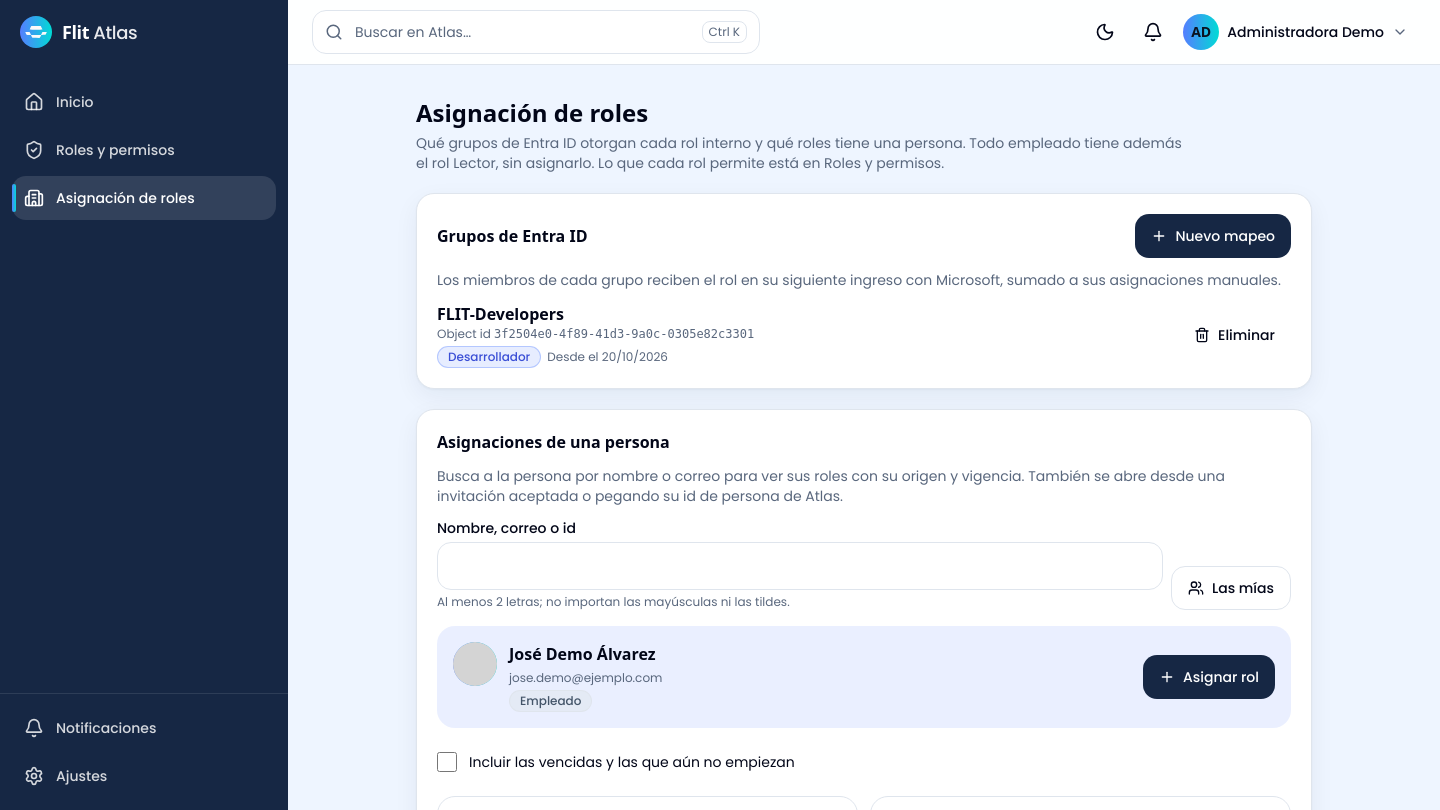
it: buscador de personas › si el servidor pide reautenticación al asignar, lo dice dentro de la hoja
Click the button "Asignar rol" at coordinates (1209, 677), box [1143, 655, 1275, 699]
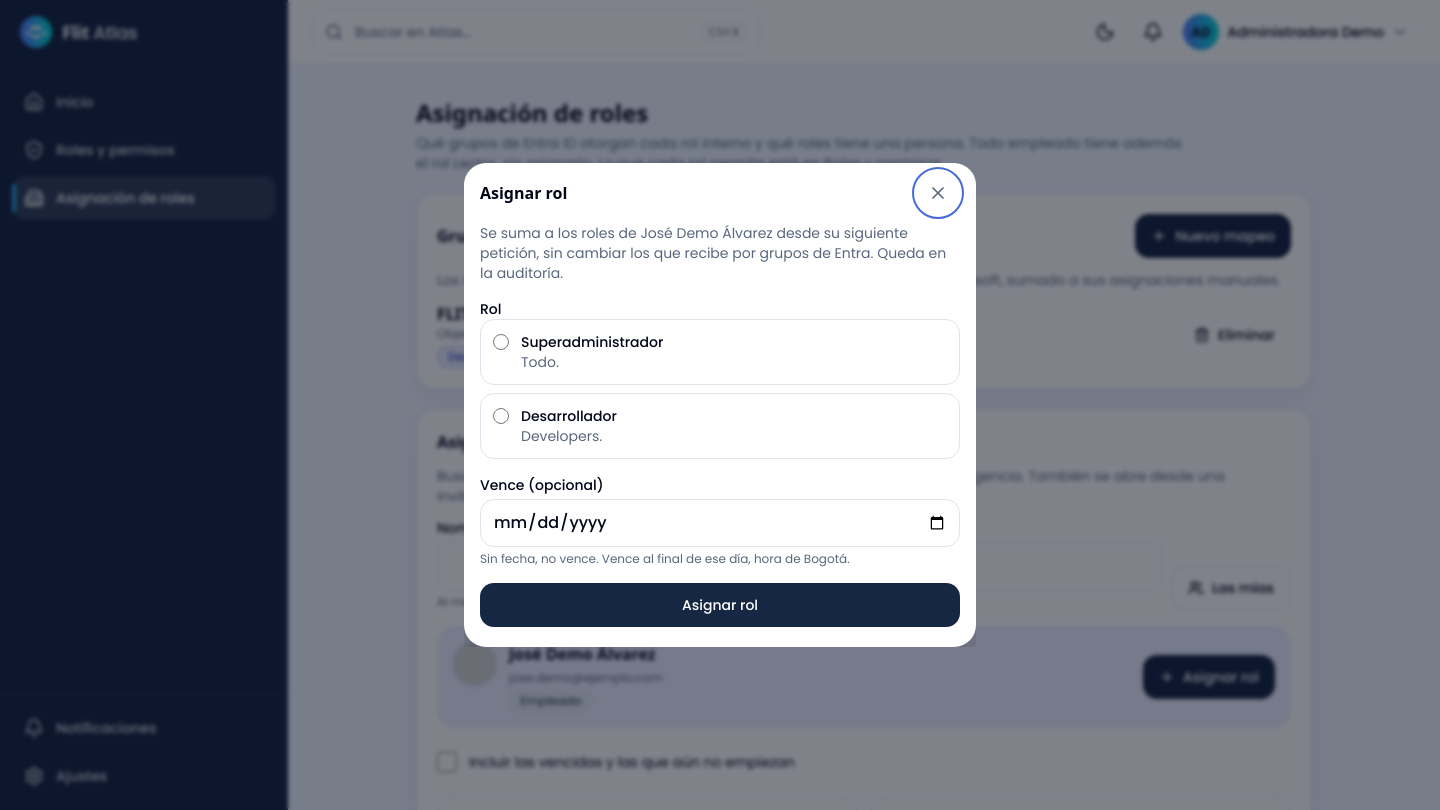
Click the radio button labelled "Desarrollador Developers." at coordinates (501, 416), box [493, 408, 509, 424]
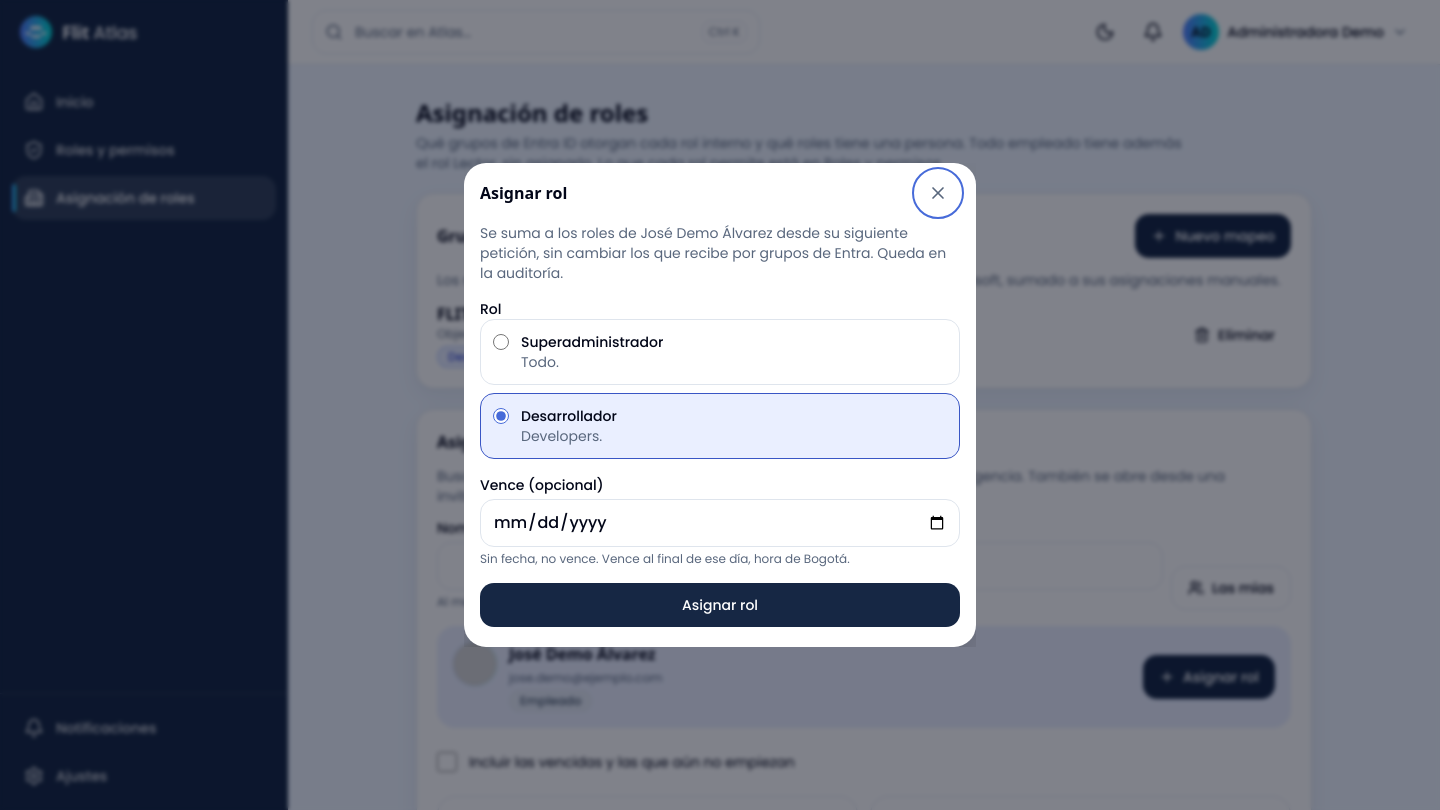
Submit the form named "Datos de la asignación", box [464, 215, 976, 647]
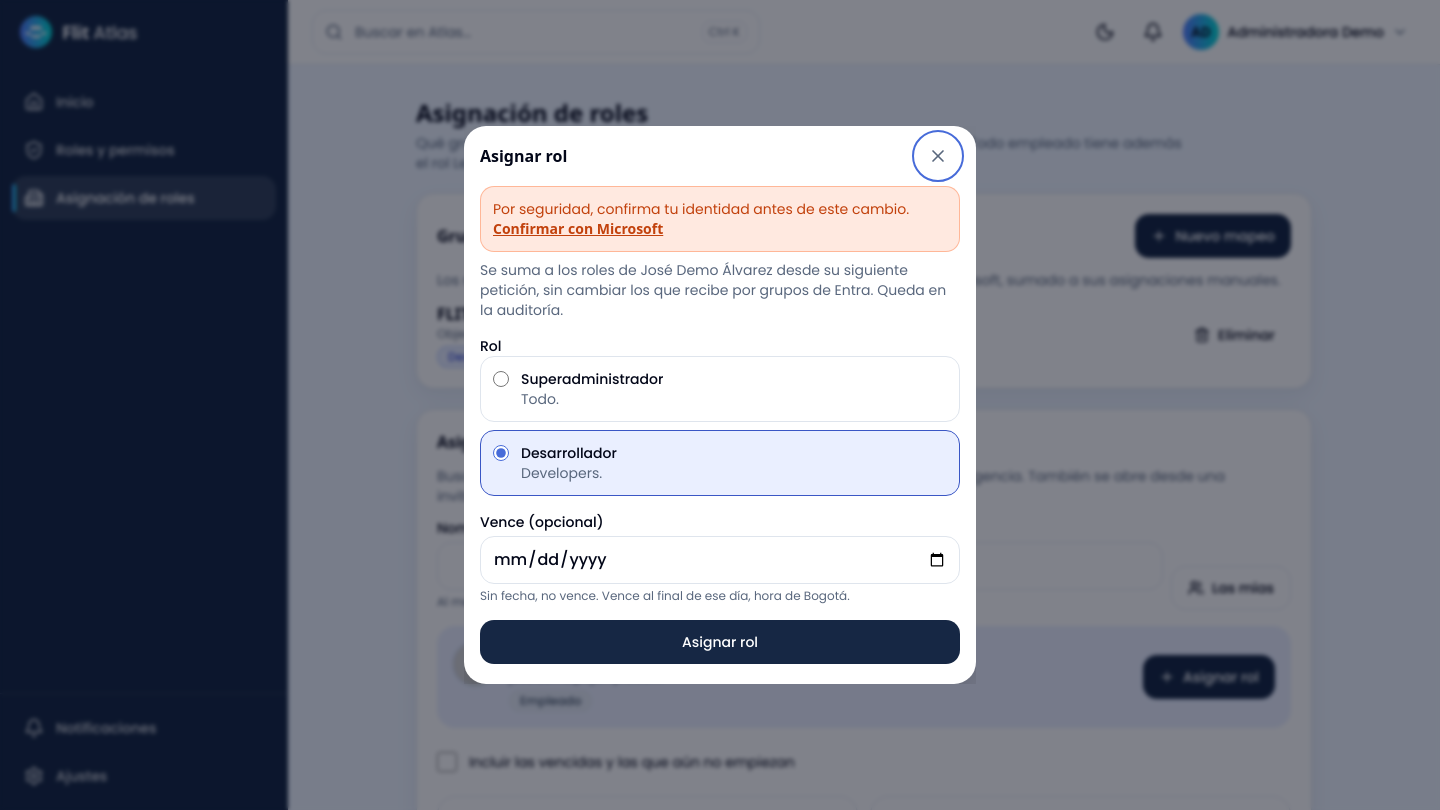
Expected: the link "Confirmar con Microsoft" is shown, [493, 219, 663, 238]
